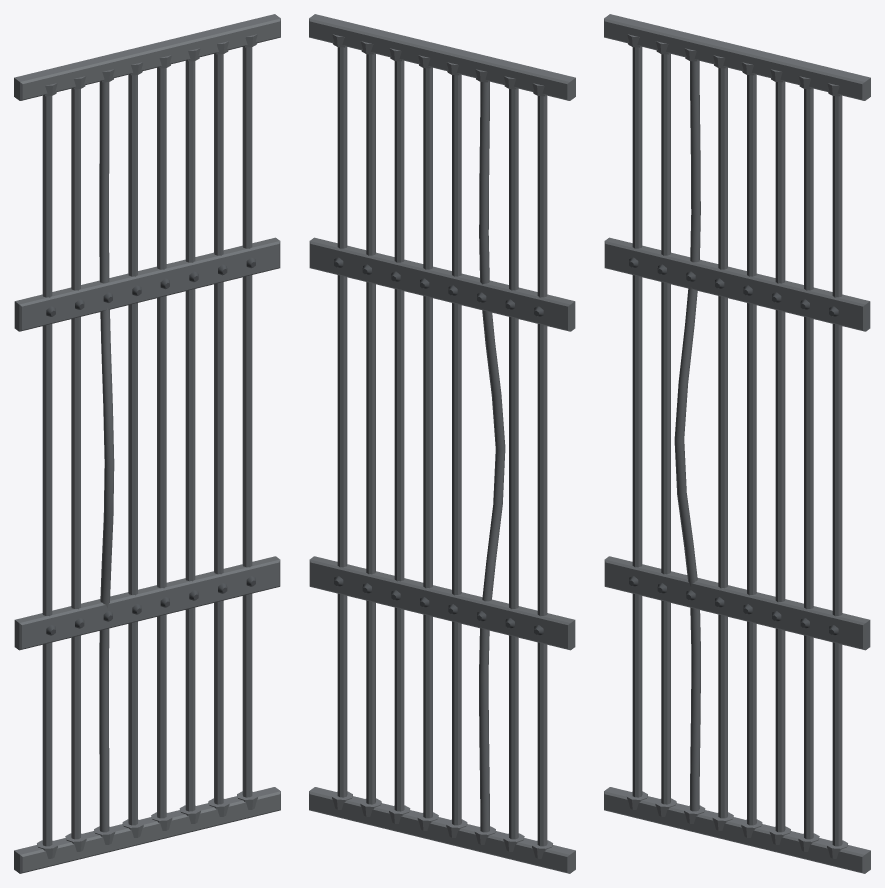
Rendered from SM_LPD_Door_WindowPaneGrille_01.fbx.
The picture shows the model from 3 angles, left to right: view 1: azimuth 30°, elevation 25°; view 2: azimuth 150°, elevation 25°; view 3: azimuth 330°, elevation 25°; orthographic projection.
Visible parts, largest first — view 1: SM_LPD_Door_WindowPaneGrille_01; view 2: SM_LPD_Door_WindowPaneGrille_01; view 3: SM_LPD_Door_WindowPaneGrille_01.
Part boxes in pixels (x1=…): SM_LPD_Door_WindowPaneGrille_01: x1=14, y1=14, x2=280, y2=873; SM_LPD_Door_WindowPaneGrille_01: x1=309, y1=14, x2=575, y2=873; SM_LPD_Door_WindowPaneGrille_01: x1=604, y1=14, x2=870, y2=873.
Bounding box in the file's own units: 0.6 × 1.74 × 0.0738.
